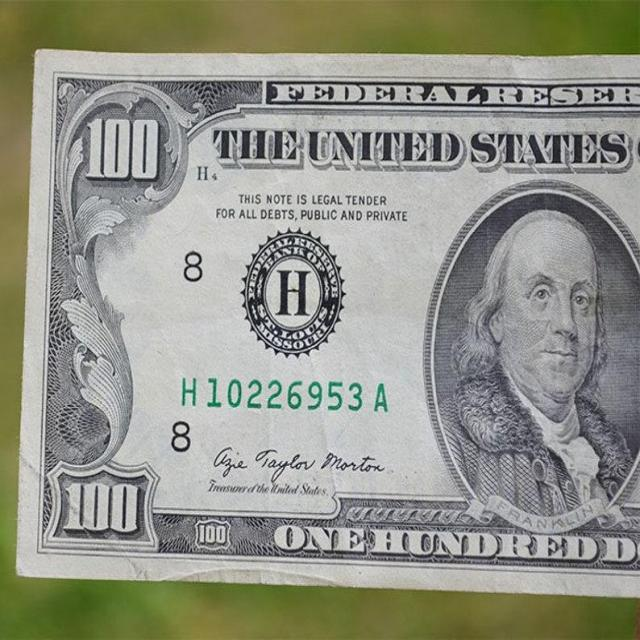100-Front: (25, 51, 640, 591)
